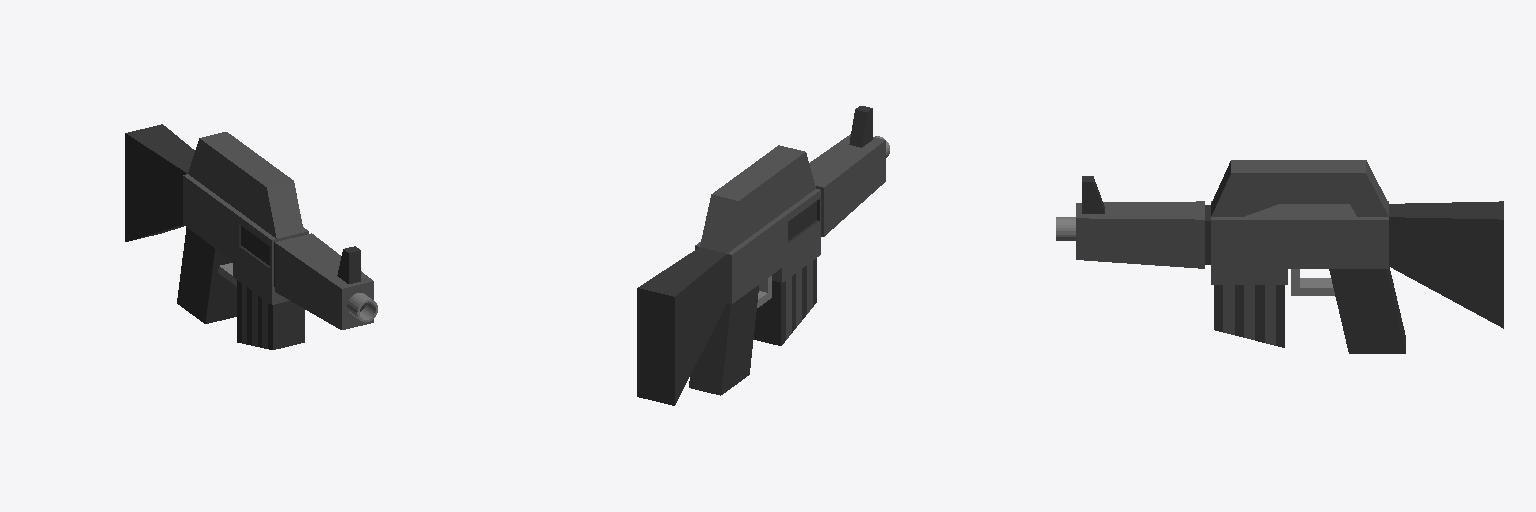
File: rifle.obj
3 views of the same model, side by side, from view 1: azimuth 30°, elevation 25°; view 2: azimuth 150°, elevation 25°; view 3: azimuth 270°, elevation 25° (orthographic).
Visible parts, largest first — view 1: machinegun; view 2: machinegun; view 3: machinegun.
Boxes of the visible parts, box(x1,y1,x2,y2) form: machinegun: box(125, 124, 377, 349); machinegun: box(637, 106, 889, 405); machinegun: box(1056, 160, 1503, 353).
Bounding box in the file's own units: 0.009 × 0.0414 × 0.0936.